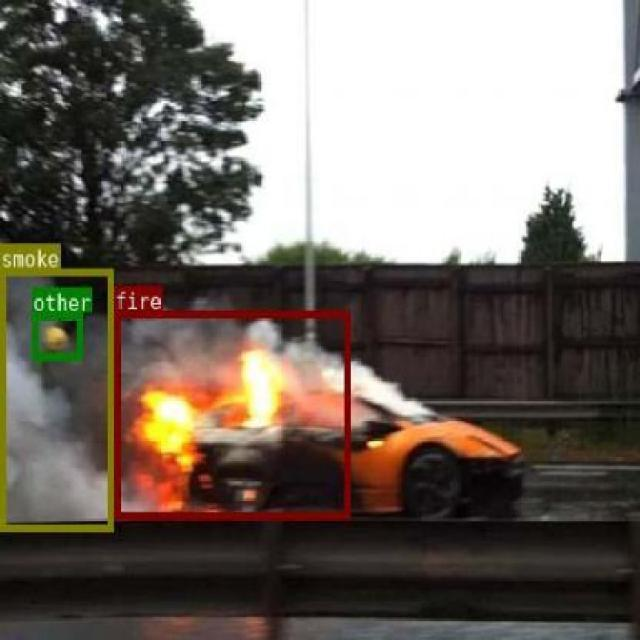Fire: (113, 310, 349, 518)
Smoke: (0, 266, 111, 529)
